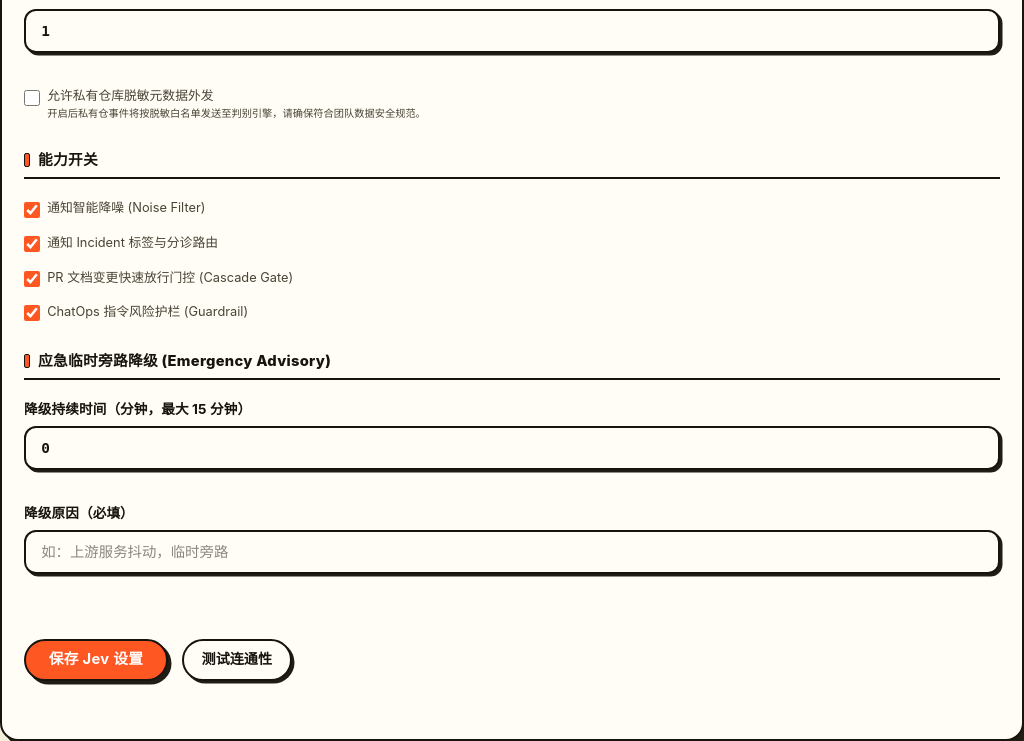
Test: JevSettingsCard › 运行连通性测试并展示成功提示
(page scrolled)
Click the button "测试连通性" at (237, 660), box [182,639,292,681]
(page scrolled)
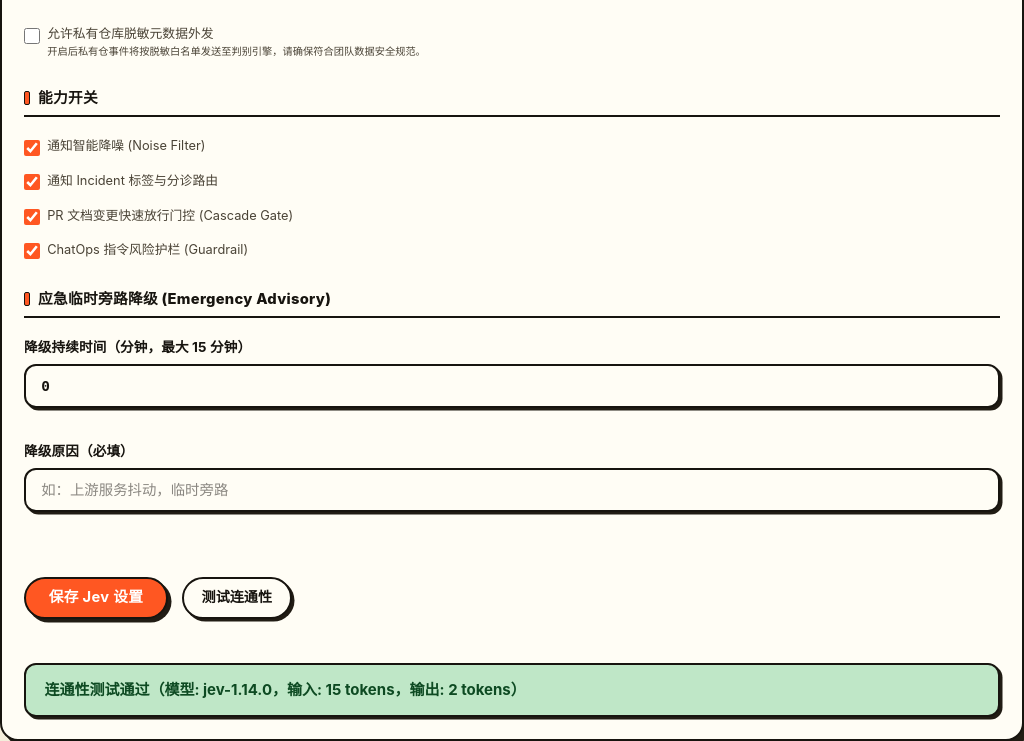
Check: the text "连通性测试通过（模型: jev-1.14.0，输入: 15 tokens，输出: 2 tokens）" is shown, box [24,663,1000,717]
